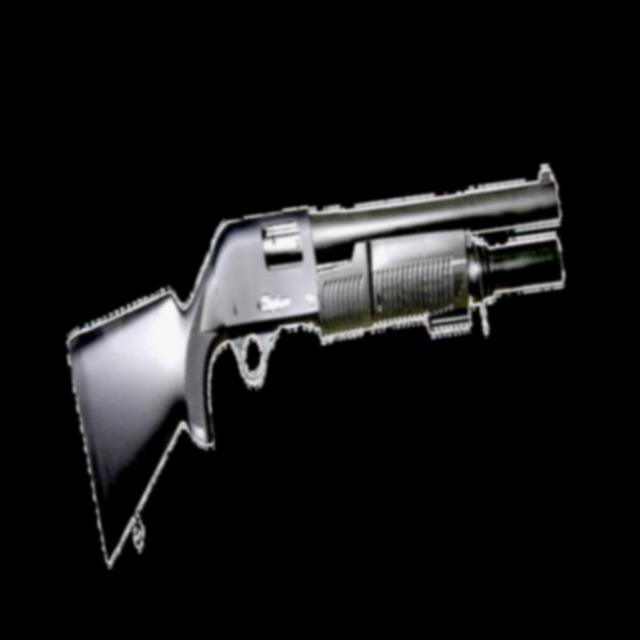shotgun: (36, 132, 624, 614)
